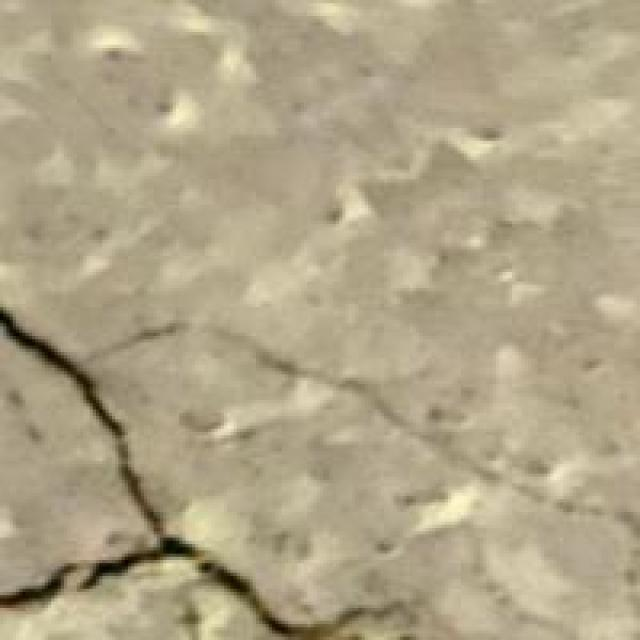Crack: (0, 282, 416, 636)
